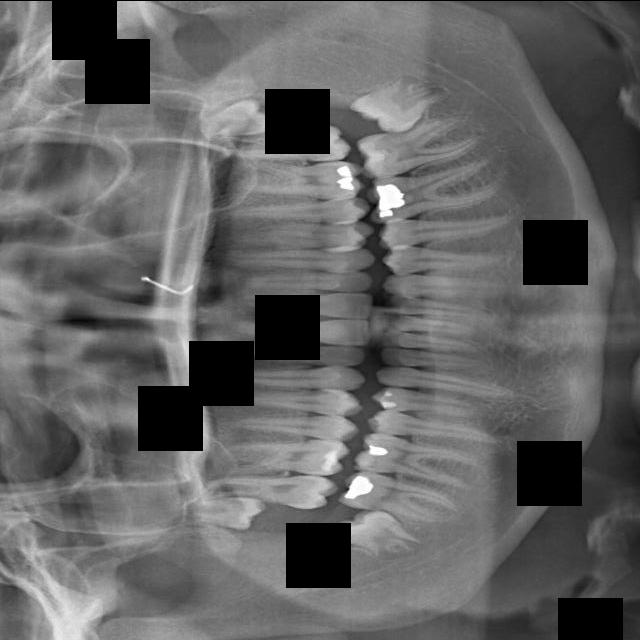3M ESPE Implant: (182, 488, 267, 533)
AGS Medikal Implant: (353, 107, 486, 183)
AMerOss Implant: (359, 148, 517, 228)
Amalgam filling: (194, 462, 340, 513)
Anthogyr Implant: (374, 200, 529, 251)
Bicon Implant: (381, 242, 510, 274)
BioHorizons Implant: (380, 272, 524, 302)
BioLife Implant: (382, 294, 494, 323)
Biomet 3i Implant: (377, 312, 485, 335)
Blue Sky Bio Implant: (380, 330, 481, 354)
Camlog Implant: (379, 348, 490, 369)
Caries: (236, 269, 374, 290)
Composite filling: (373, 362, 516, 402)
Cowellmedi Implant: (370, 383, 486, 420)
Crown: (365, 406, 506, 449)
DENTSPLY Implant: (214, 438, 351, 477)
Dentatus Implant: (351, 429, 487, 493)
Dentis Implant: (336, 467, 464, 527)
Dentium Implant: (330, 493, 430, 575)
Euroteknika Implant: (232, 403, 362, 442)
Filling: (239, 378, 364, 417)
Frontier Implant: (197, 367, 365, 389)
Hiossen Implant: (211, 246, 376, 268)
Implant: (226, 319, 371, 346)
Implant Direct: (228, 344, 366, 366)
Keystone Dental Implant: (229, 287, 375, 318)
MIS Implant: (227, 218, 377, 253)
Mandible: (218, 196, 370, 230)
Maxilla: (235, 159, 365, 199)
Megagen Implant: (218, 121, 350, 164)
Neodent Implant: (194, 94, 279, 139)
Neoss Implant: (347, 60, 456, 147)
